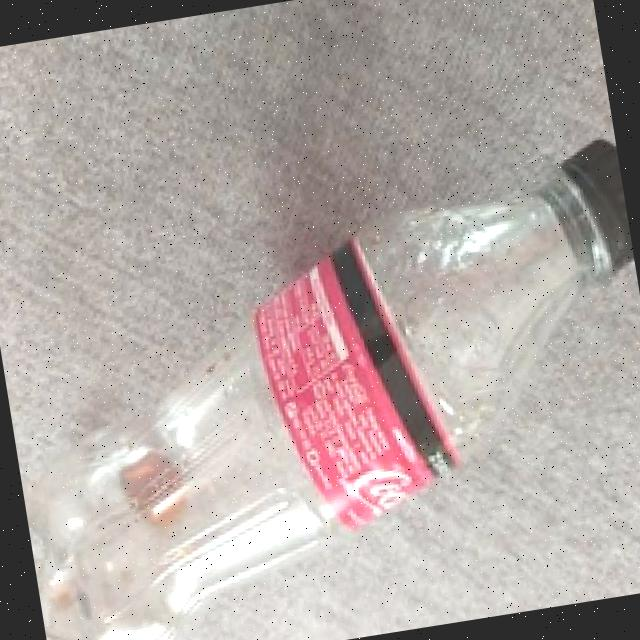bottle: (0, 117, 640, 640)
cap: (555, 140, 637, 286)
label: (238, 231, 474, 535)
